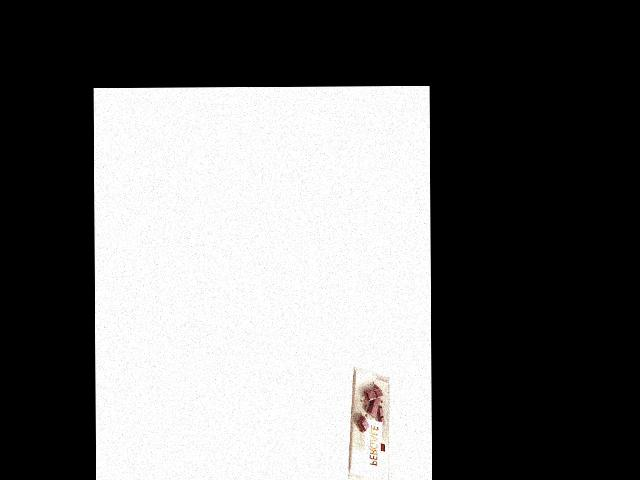chocolate: (348, 363, 390, 480)
